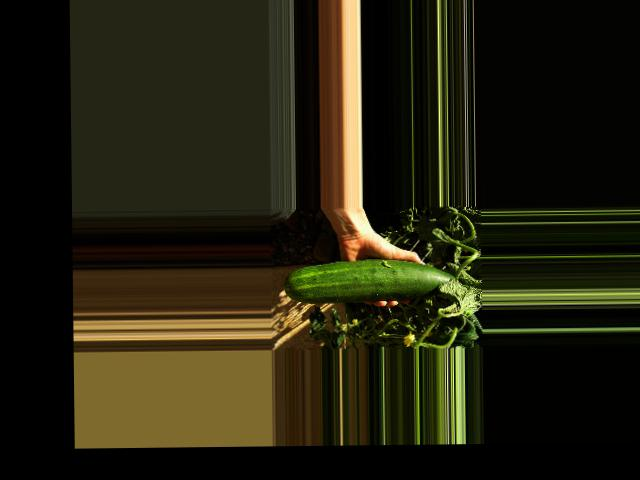cucumber: (283, 258, 457, 304)
